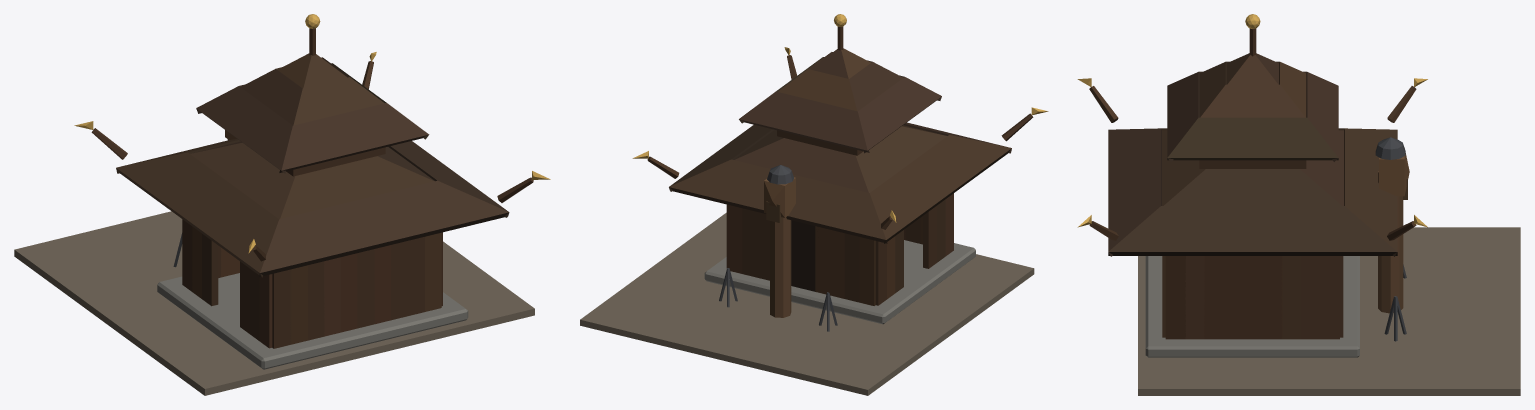
Rendered from Shrine.glb.
3 renders of one model, left to right at view 1: azimuth 30°, elevation 25°; view 2: azimuth 150°, elevation 25°; view 3: azimuth 270°, elevation 25°, orthographic. The views are drawn at different scales.
Visible parts, largest first — view 1: Mat_Wood_513a29, Mat_Wood_473121, Mat_Wood_36281d, Mat_Stone_74726c; view 2: Mat_Wood_513a29, Mat_Wood_473121, Mat_Wood_36281d, Mat_Stone_74726c, Mat_Metal_424448; view 3: Mat_Wood_513a29, Mat_Wood_36281d, Mat_Wood_473121, Mat_Stone_74726c, Mat_Metal_424448.
Boxes of the visible parts, x1=… form: Mat_Wood_513a29: x1=14, y1=53, x2=534, y2=395; Mat_Wood_473121: x1=91, y1=28, x2=533, y2=348; Mat_Wood_36281d: x1=116, y1=57, x2=509, y2=340; Mat_Stone_74726c: x1=157, y1=273, x2=468, y2=369; Mat_Wood_513a29: x1=580, y1=48, x2=1034, y2=395; Mat_Wood_473121: x1=647, y1=26, x2=1011, y2=305; Mat_Wood_36281d: x1=669, y1=49, x2=1011, y2=292; Mat_Stone_74726c: x1=704, y1=240, x2=975, y2=324; Mat_Metal_424448: x1=719, y1=165, x2=837, y2=331; Mat_Wood_513a29: x1=1091, y1=53, x2=1520, y2=395; Mat_Wood_36281d: x1=1108, y1=53, x2=1397, y2=339; Mat_Wood_473121: x1=1089, y1=28, x2=1416, y2=339; Mat_Stone_74726c: x1=1145, y1=256, x2=1359, y2=357; Mat_Metal_424448: x1=1375, y1=137, x2=1406, y2=341.
Size of the model in its own units: 15 by 13.02 by 17.38.
1 material, 1 textured.
